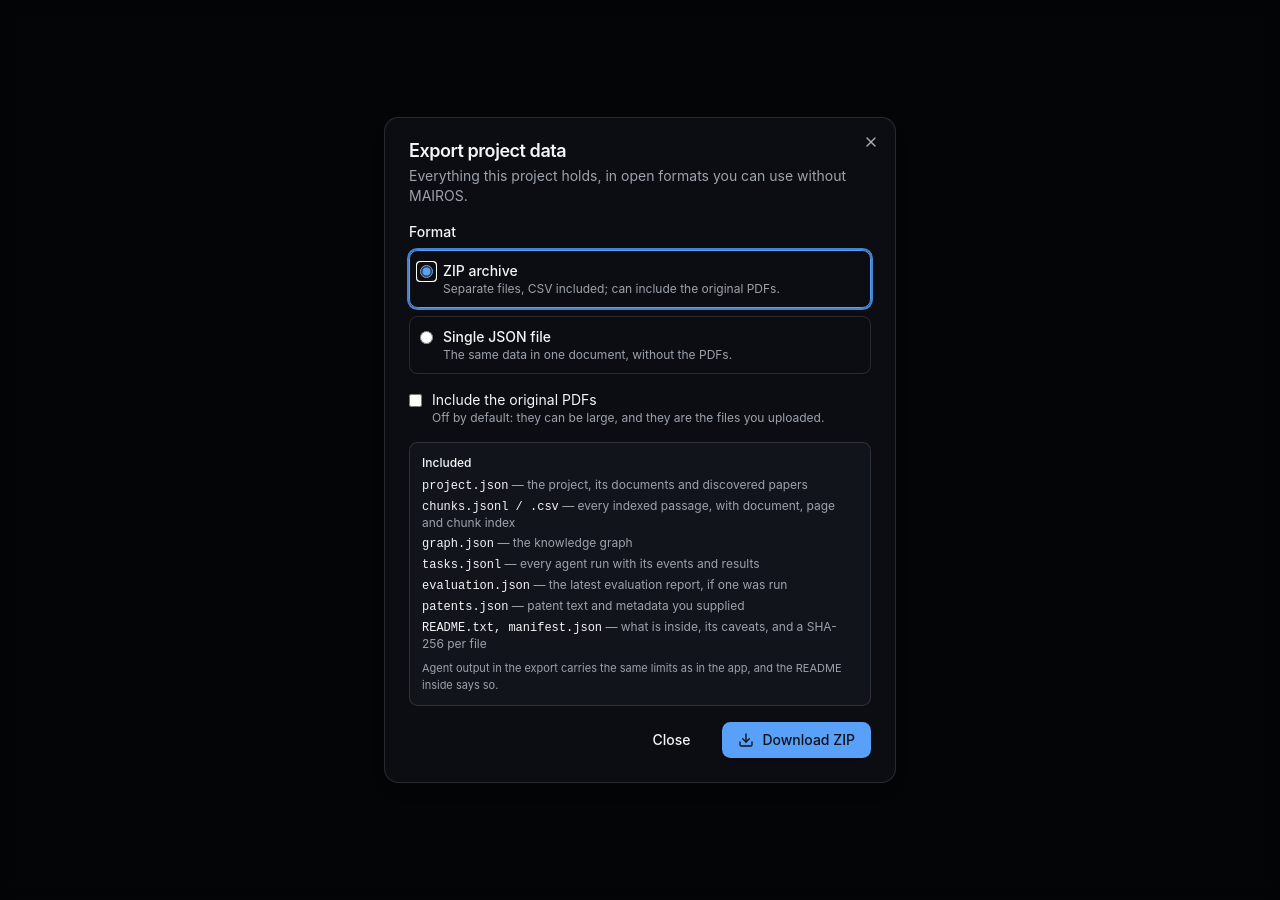
ProjectExportDialog › explains a failure
Click the button "Download ZIP" at coordinates (797, 740), box x1=722 y1=722 x2=871 y2=758
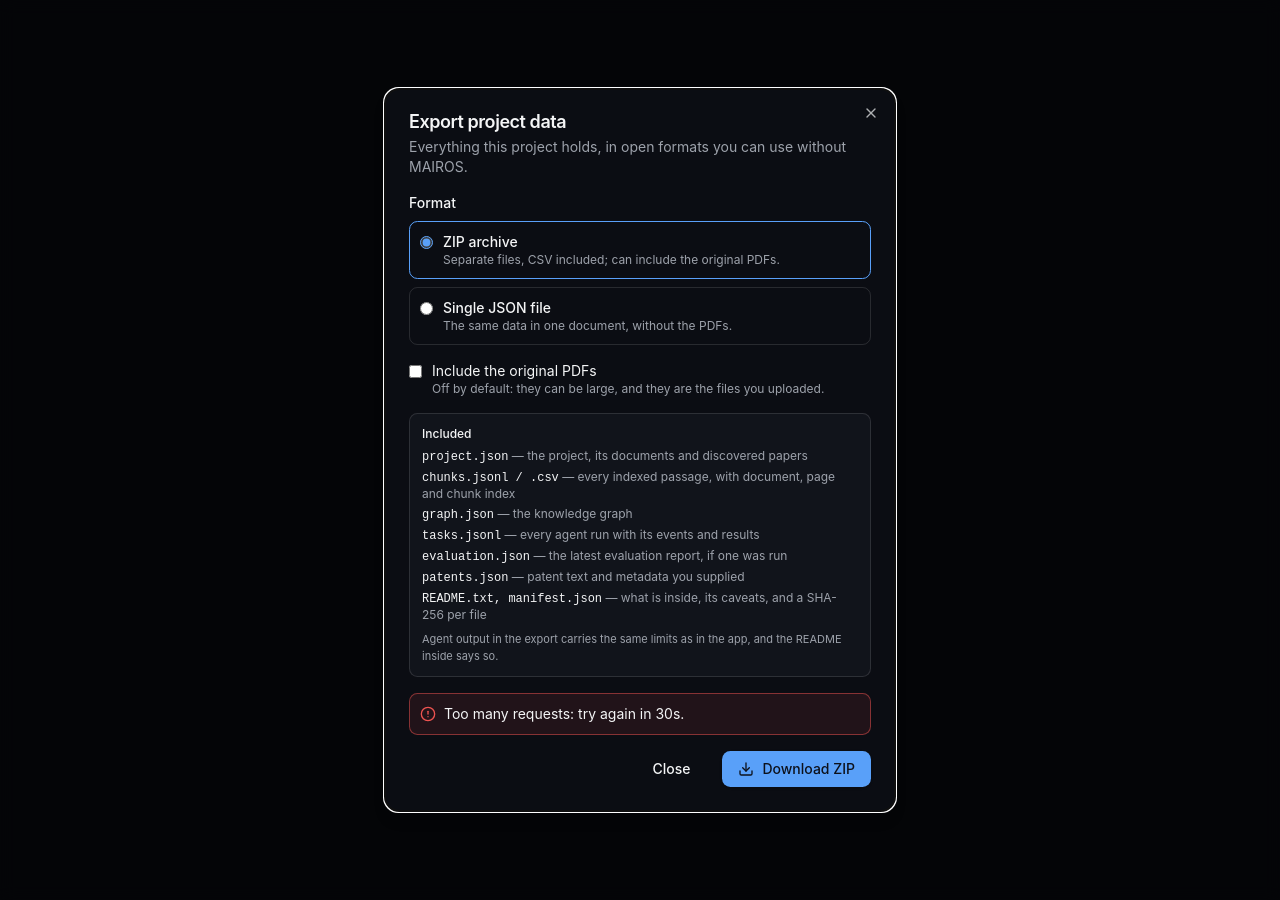
Expected: the message shows "Too many requests", x1=444 y1=705 x2=684 y2=722
